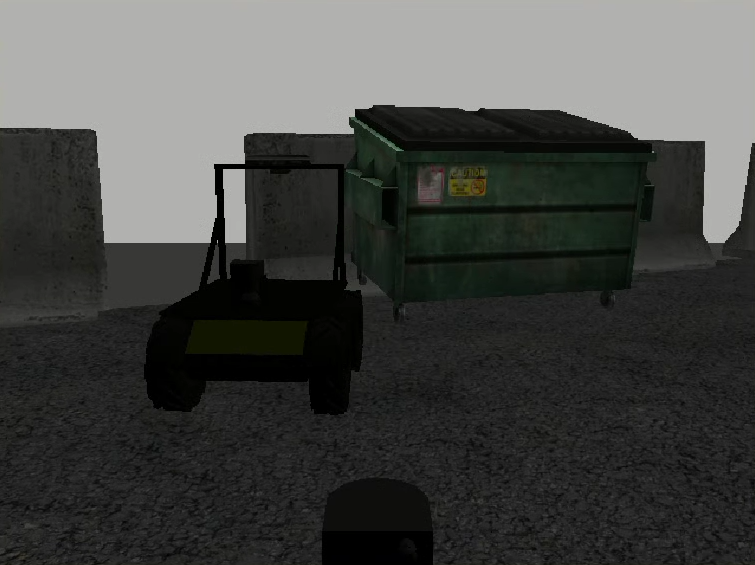husky: (144, 279, 363, 415)
